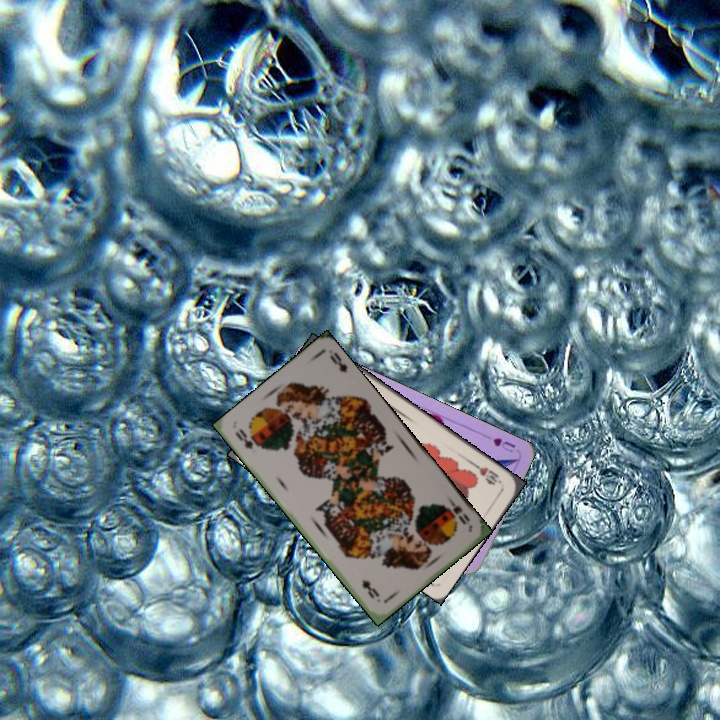H10: (469, 459, 505, 488)
HU: (489, 434, 518, 455)
SO: (444, 494, 472, 527), (231, 424, 256, 452)
